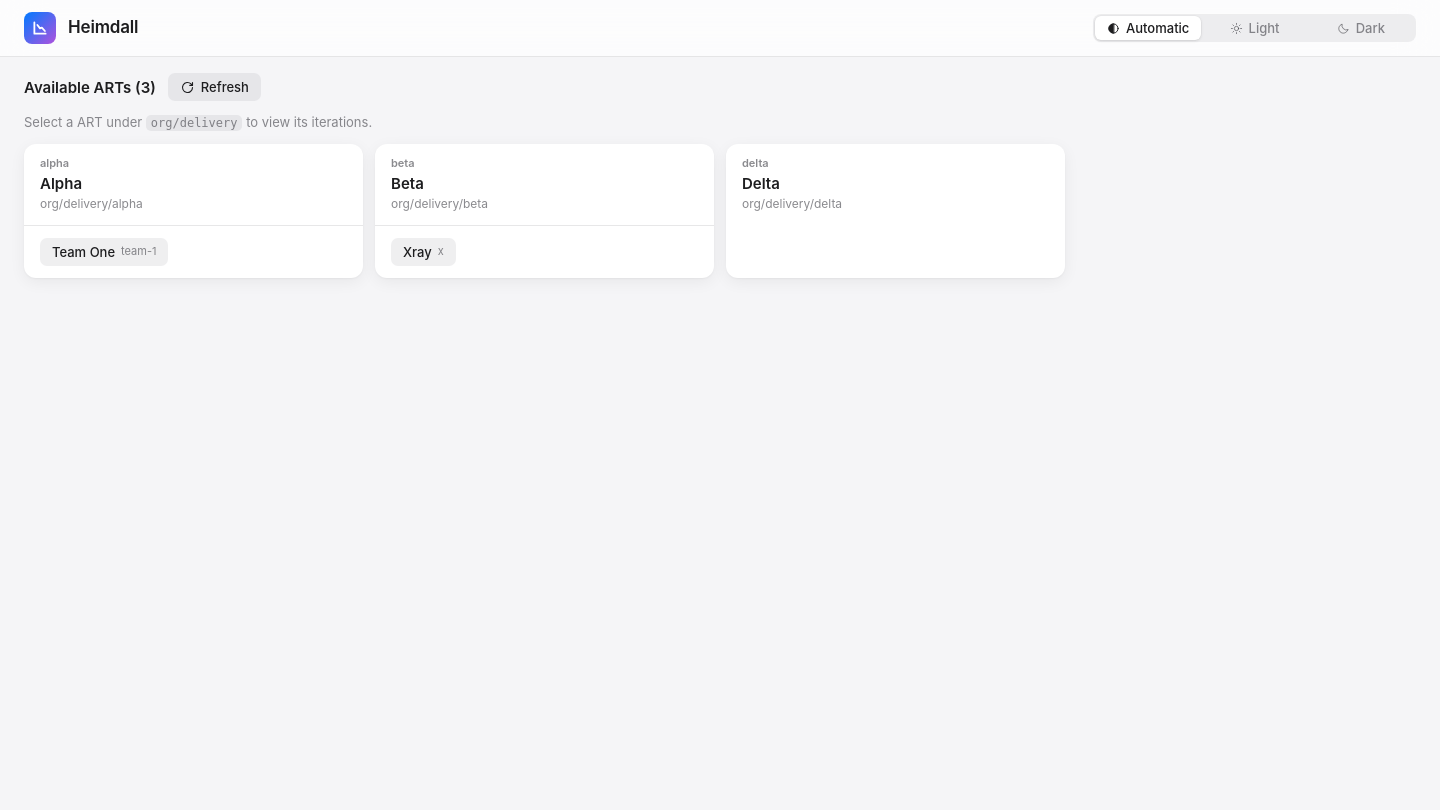
Scenario: S-60: only a recorded point opens the dialogue › SW04 burndown: a click resolving to a date without a Remaining value (after today) opens nothing
The width and height of the screenshot is (1440, 810).
Click the text "Alpha": (61, 184) [40,173,82,194]
(page scrolled)
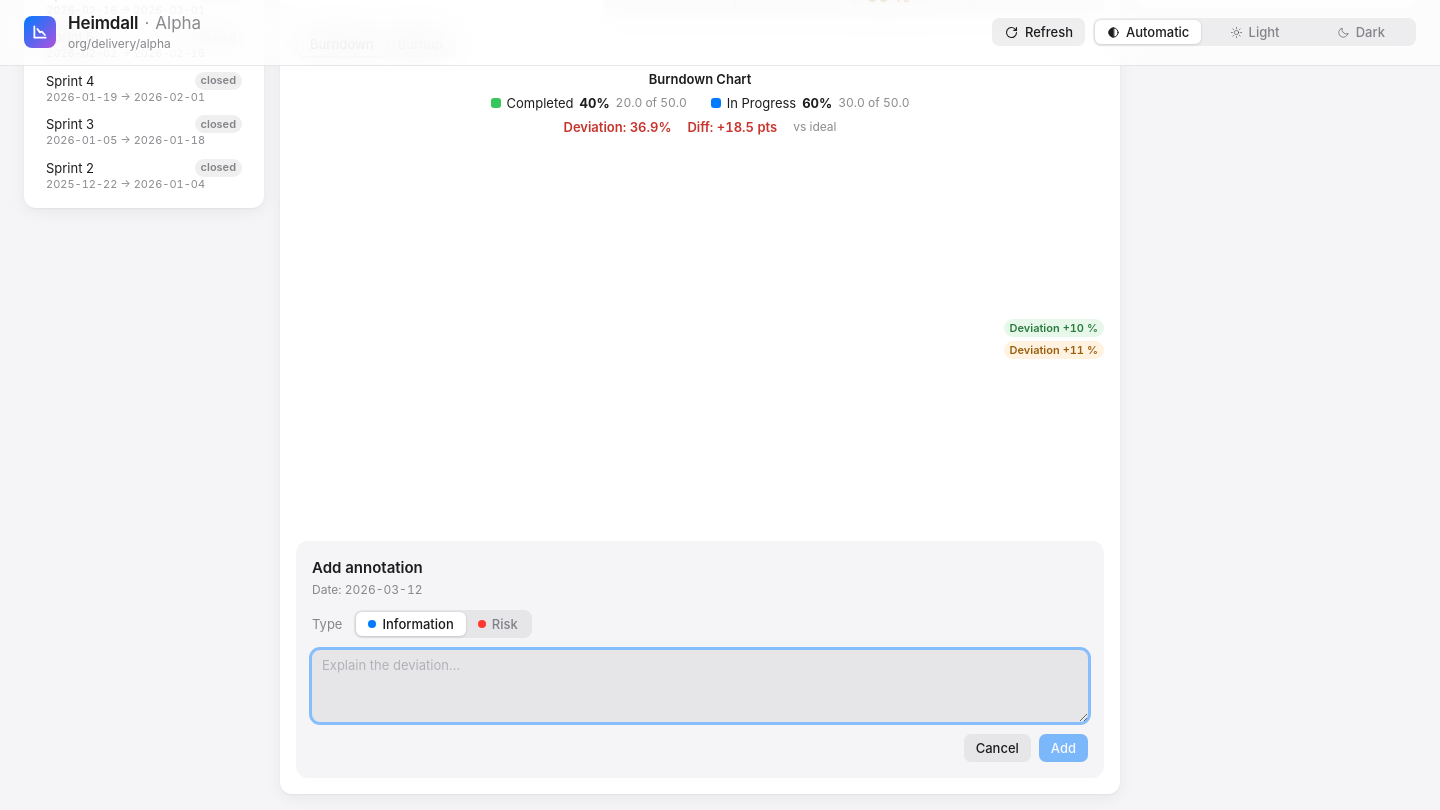
Check: the element with test id "annotation-dialog" is shown, box [296,540,1104,778]
